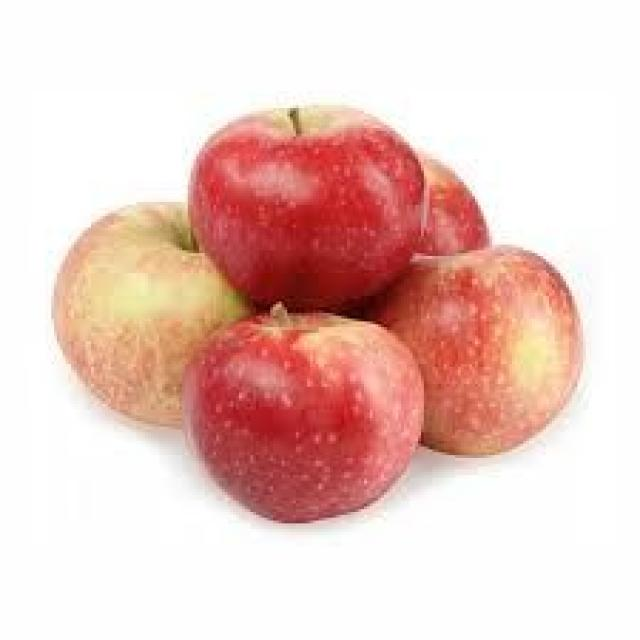Healty Apple: (184, 313, 422, 526), (191, 104, 418, 311), (50, 199, 246, 430), (387, 248, 583, 455)
